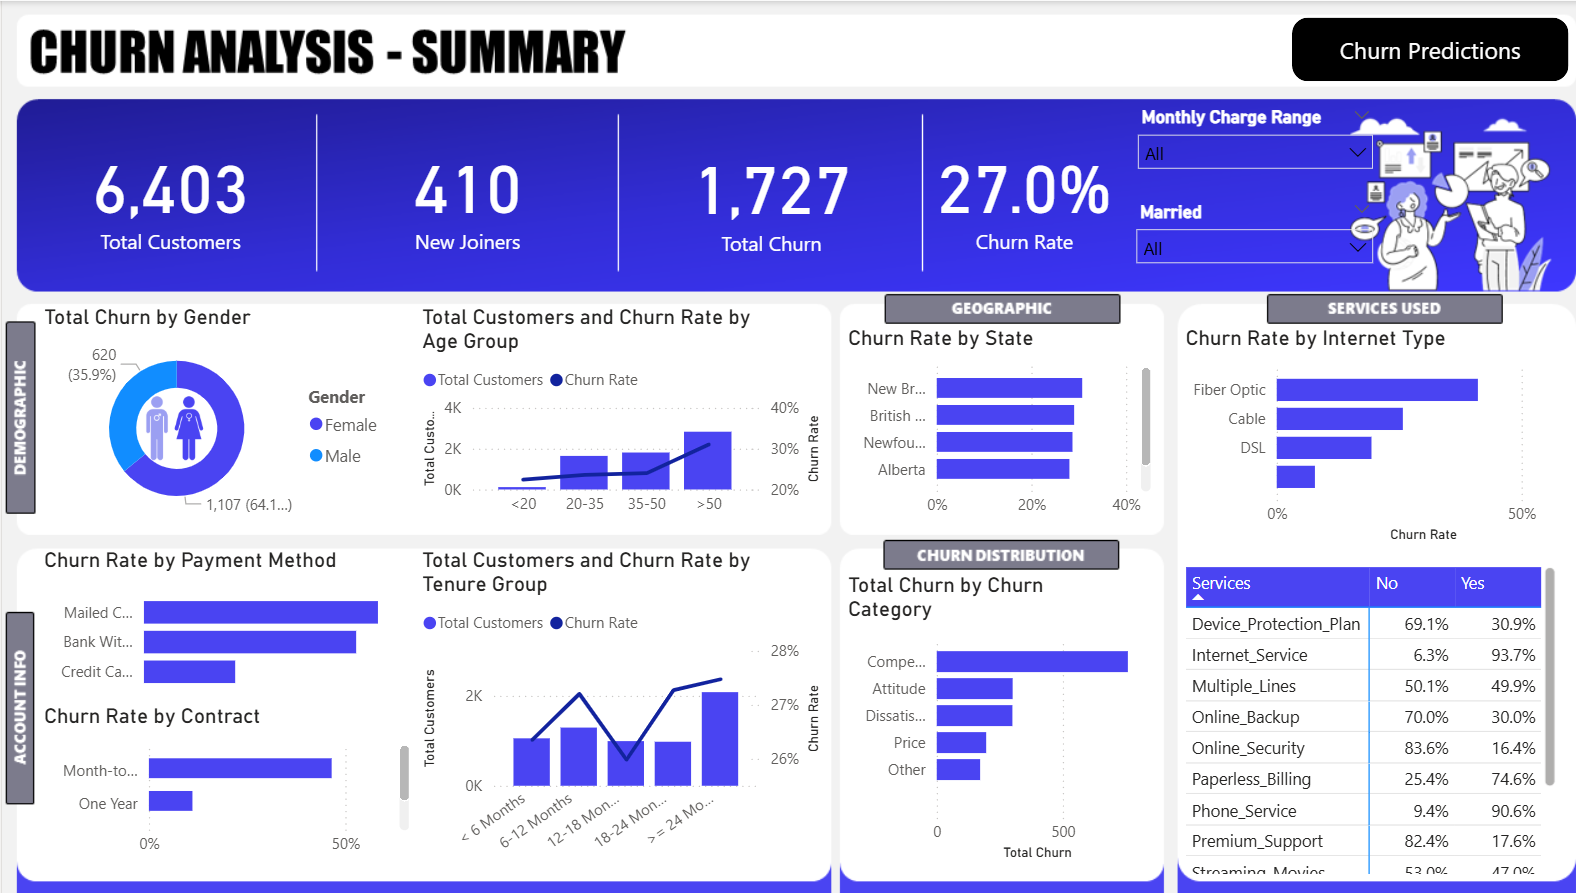

The page's visual inventory and layout, read from the dashboard file:
{"tool":"powerbi","page":{"name":"Summary","canvas":[1280,720],"ordinal":0},"visuals":[{"type":"image","box":[98.4,303.9,83.2,76.9],"z":0},{"type":"card","fields":{"Values":["tbl_Measures.Total Customers"]},"box":[15.1,76.9,239.6,155.1],"z":1000},{"type":"card","fields":{"Values":["tbl_Measures.New Joiners"]},"box":[254.7,76.9,239.6,155.1],"z":2000},{"type":"card","fields":{"Values":["tbl_Measures.Total Churn"]},"box":[498.1,79.4,243.4,152.6],"z":3000},{"type":"card","fields":{"Values":["tbl_Measures.Churn Rate"]},"box":[741.5,76.9,162.7,155.1],"z":4000},{"type":"donutChart","fields":{"Category":["prod_Churn.Gender"],"Y":["tbl_Measures.Total Churn"]},"box":[29,244.7,288.8,179.1],"z":5000},{"type":"lineStackedColumnComboChart","fields":{"Category":["mapping_AgeGrp.Age Group"],"Y":["tbl_Measures.Total Customers"],"Y2":["tbl_Measures.Churn Rate"]},"box":[332.9,244.7,330.4,179.1],"z":6000},{"type":"clusteredBarChart","fields":{"Category":["prod_Churn.Payment_Method"],"Y":["tbl_Measures.Churn Rate"]},"box":[29,440.1,288.8,124.8],"z":7000},{"type":"clusteredBarChart","fields":{"Category":["prod_Churn.Contract"],"Y":["tbl_Measures.Churn Rate"]},"box":[29,565,303.9,131.2],"z":8000},{"type":"lineStackedColumnComboChart","fields":{"Category":["mapping_TenureGrp.Tenure Group"],"Y":["tbl_Measures.Total Customers"],"Y2":["tbl_Measures.Churn Rate"]},"box":[332.9,440.1,330.4,256],"z":9000},{"type":"clusteredBarChart","fields":{"Category":["prod_Churn.State"],"Y":["tbl_Measures.Churn Rate"]},"box":[677.2,261,253.5,162.7],"z":10000},{"type":"clusteredBarChart","fields":{"Category":["prod_Churn.Churn_Category"],"Y":["tbl_Measures.Total Churn"]},"box":[677.2,460.3,253.5,235.8],"z":11000},{"type":"clusteredBarChart","fields":{"Category":["prod_Churn.Internet_Type"],"Y":["tbl_Measures.Churn Rate"]},"box":[948.3,261,331.7,179.1],"z":12000},{"type":"pivotTable","title":"Churn by Services","fields":{"Rows":["prod_Services.Services"],"Columns":["prod_Services.Status"],"Values":["Sum(prod_Services.Churn Status)"]},"box":[948.3,450.2,307.7,257.3],"z":13000},{"type":"slicer","fields":{"Values":["prod_Churn.Monthly Charge Status"]},"box":[905.5,79.4,209.3,75.7],"z":14000},{"type":"slicer","fields":{"Values":["prod_Churn.Married"]},"box":[904.2,156.4,210.6,75.7],"z":15000},{"type":"shape","box":[1038.6,12.9,222.9,51.4],"z":15001}]}

Visuals, with their boxes in screenshot pixels (x1, y1, x2, y2), scaled from the page's 1280x720 canvas onto the 1576x893 screenshot:
image: 121/377/224/472
card - tbl_Measures.Total Customers: 19/95/314/288
card - tbl_Measures.New Joiners: 314/95/609/288
card - tbl_Measures.Total Churn: 613/98/913/288
card - tbl_Measures.Churn Rate: 913/95/1113/288
donutChart - prod_Churn.Gender x tbl_Measures.Total Churn: 36/303/391/526
lineStackedColumnComboChart - mapping_AgeGrp.Age Group x tbl_Measures.Total Customers: 410/303/817/526
clusteredBarChart - prod_Churn.Payment_Method x tbl_Measures.Churn Rate: 36/546/391/701
clusteredBarChart - prod_Churn.Contract x tbl_Measures.Churn Rate: 36/701/410/863
lineStackedColumnComboChart - mapping_TenureGrp.Tenure Group x tbl_Measures.Total Customers: 410/546/817/863
clusteredBarChart - prod_Churn.State x tbl_Measures.Churn Rate: 834/324/1146/526
clusteredBarChart - prod_Churn.Churn_Category x tbl_Measures.Total Churn: 834/571/1146/863
clusteredBarChart - prod_Churn.Internet_Type x tbl_Measures.Churn Rate: 1168/324/1575/546
"Churn by Services" pivotTable: 1168/558/1546/877
slicer - prod_Churn.Monthly Charge Status: 1115/98/1373/192
slicer - prod_Churn.Married: 1113/194/1373/288
shape: 1279/16/1553/80
